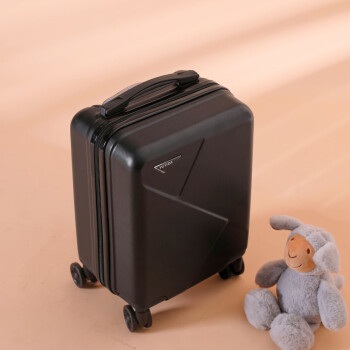box: (70, 77, 255, 306)
handle: (100, 68, 199, 121)
wheel: (122, 303, 153, 332), (69, 260, 99, 288), (218, 255, 245, 281)
